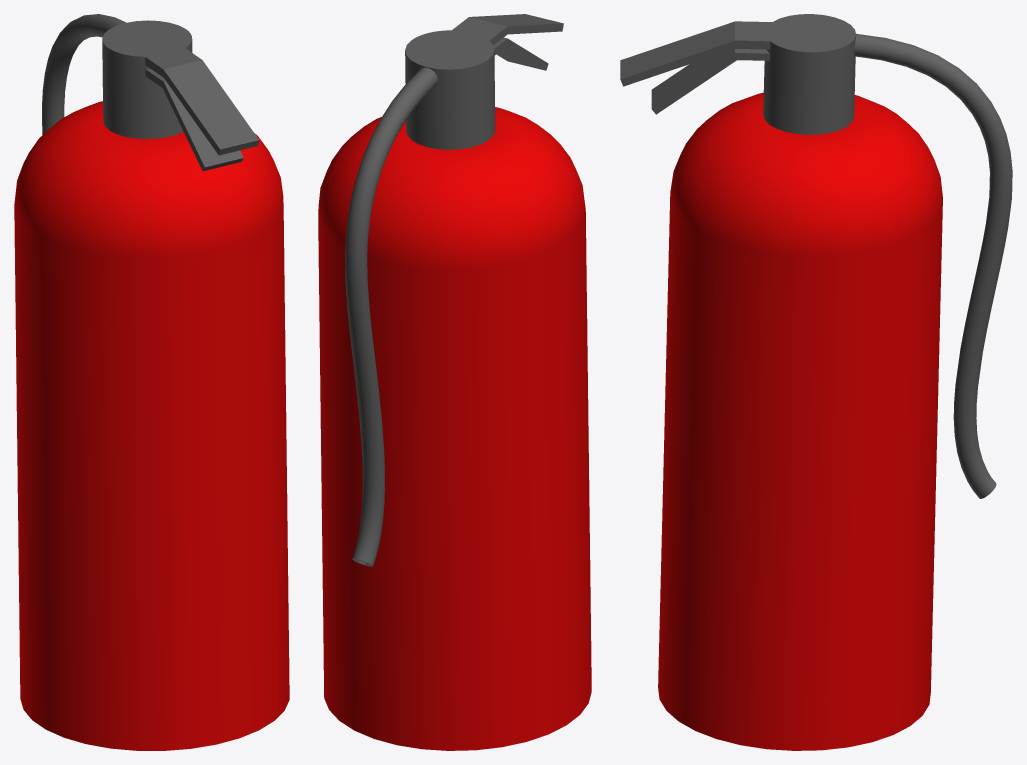
The model's file is FireExtinguisher.fbx.
3 views of the same model, side by side, from view 1: azimuth 30°, elevation 25°; view 2: azimuth 150°, elevation 25°; view 3: azimuth 270°, elevation 25° (orthographic).
Visible parts, largest first — view 1: Body608, Body609; view 2: Body608, Body609; view 3: Body608, Body609.
Part boxes in pixels (x1,y1,x2,y2): Body608: (14,101,289,750); Body609: (42,14,259,171); Body608: (318,107,591,750); Body609: (345,14,563,566); Body608: (658,92,942,750); Body609: (620,14,1012,498).
Size of the model in its own units: 598 by 1610 by 862.
